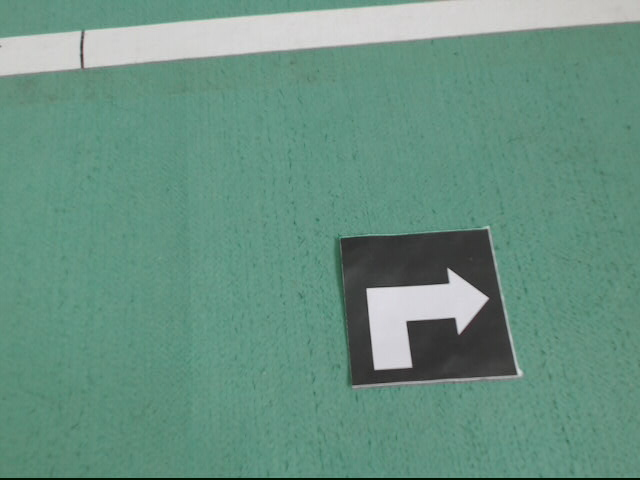right: (341, 225, 524, 388)
